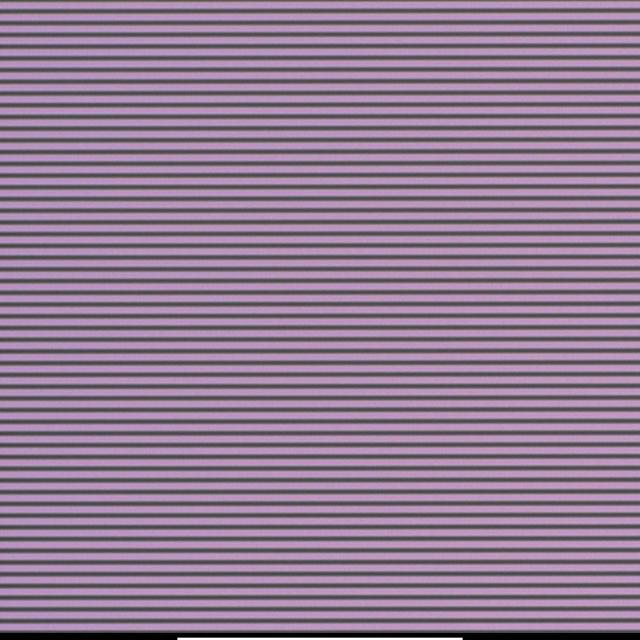nonvisual: (328, 324, 337, 332)
